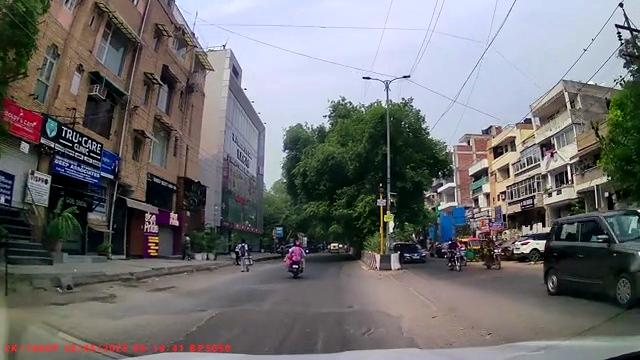passenger_with_helmet: (284, 238, 307, 279)
